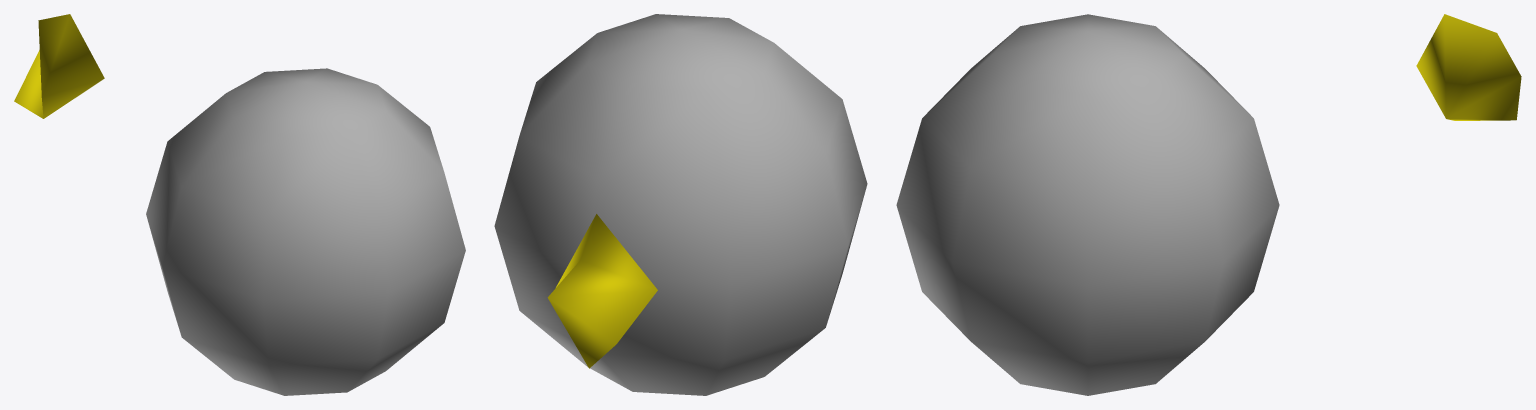
The model's file is Fireball Shuriken Mobile.fbx.
3 renders of one model, left to right at view 1: azimuth 30°, elevation 25°; view 2: azimuth 150°, elevation 25°; view 3: azimuth 270°, elevation 25°, orthographic. The views are drawn at different scales.
Visible parts, largest first — view 1: Fireball_Mobile, Fireball_Mobile_Fragment; view 2: Fireball_Mobile, Fireball_Mobile_Fragment; view 3: Fireball_Mobile, Fireball_Mobile_Fragment.
Boxes of the visible parts, x1,y1,x2,y2 form: Fireball_Mobile: (146,68,465,395); Fireball_Mobile_Fragment: (14,14,104,118); Fireball_Mobile: (494,14,867,395); Fireball_Mobile_Fragment: (547,214,657,368); Fireball_Mobile: (896,14,1279,395); Fireball_Mobile_Fragment: (1416,14,1521,120).
Size of the model in its own units: 1.08 by 1.08 by 1.77.
